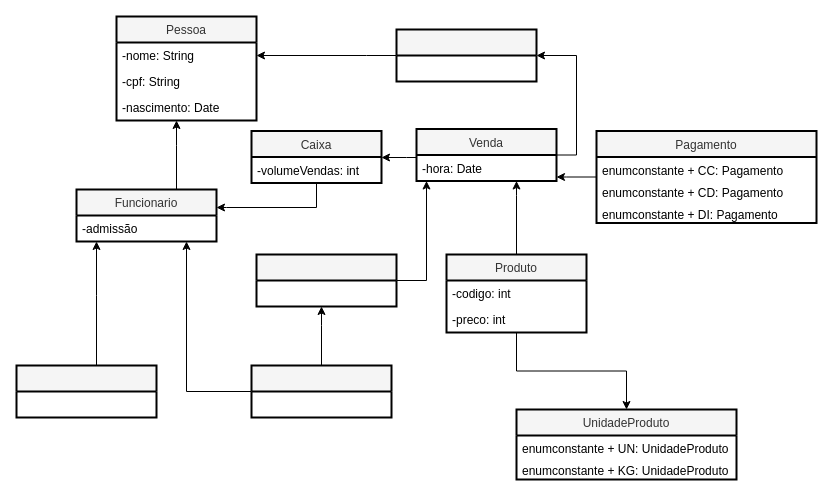
Some shapes in this 833 by 496 pixel diagram are drawn without their labels. Each missing label, with the centre of its shape:
"Cancelamento" goes at (x=326, y=280).
"Cliente" goes at (x=466, y=55).
"Gerente" goes at (x=321, y=391).
"Repositor" goes at (x=86, y=391).
